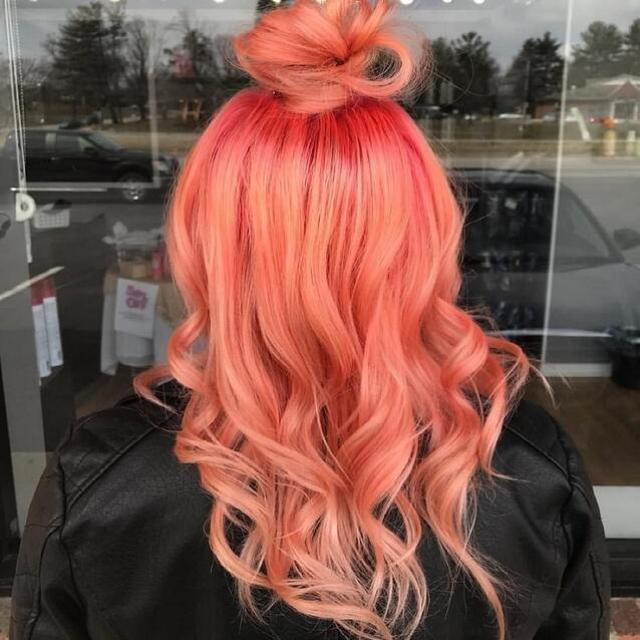Nonhelmet: (155, 15, 489, 371)
